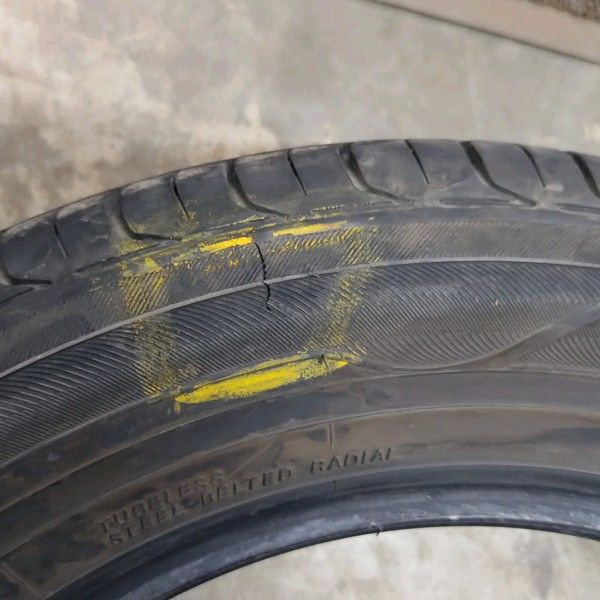cut: (251, 241, 273, 312)
